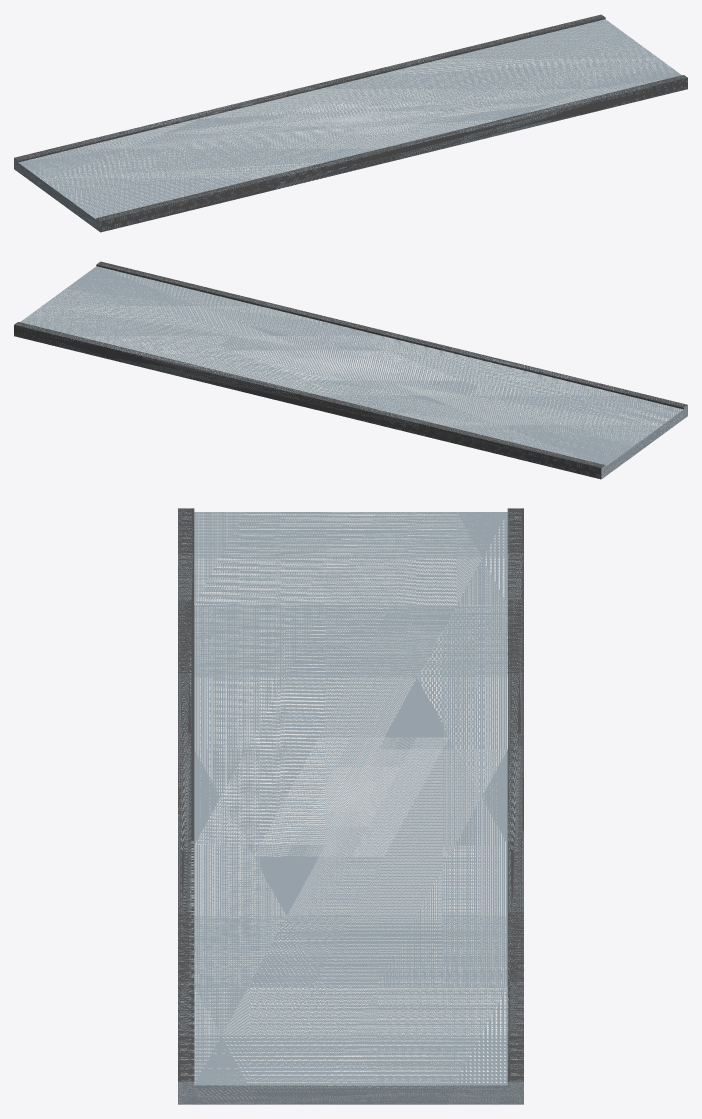
Rendered from road lake.fbx.
The picture shows the model from 3 angles, top to bottom: view 1: azimuth 30°, elevation 25°; view 2: azimuth 150°, elevation 25°; view 3: azimuth 270°, elevation 25°; orthographic projection. The views are drawn at different scales.
Parts seen in each view (by area): view 1: Model; view 2: Model; view 3: Model.
Part boxes in pixels (left/top/right/bottom): Model: left=14, top=14, right=687, bottom=232; Model: left=14, top=261, right=687, bottom=479; Model: left=178, top=508, right=523, bottom=1104.
Size of the model in its own units: 97.96 by 1.81 by 25.
